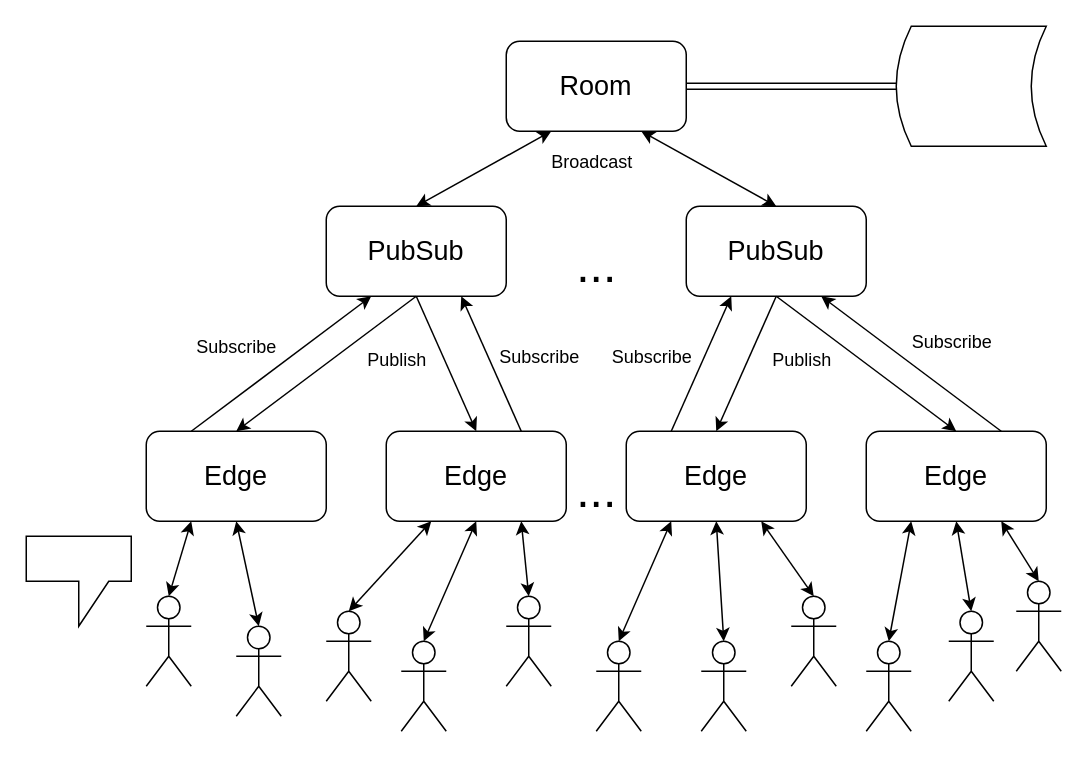
The diagram is 1088 pixels wide and 758 high, and some of its shapes have lost their labels. Each missing label, with the centre of its shape:
"Chat Messages" goes at (78,580).
"Clue" goes at (970,85).
